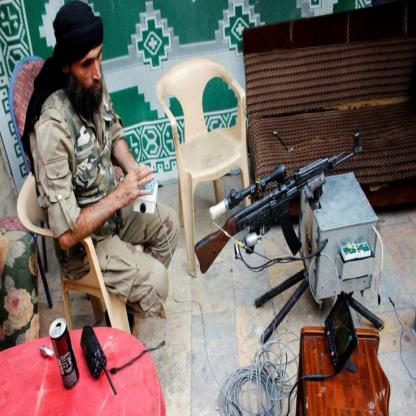rifle: (194, 132, 363, 275)
